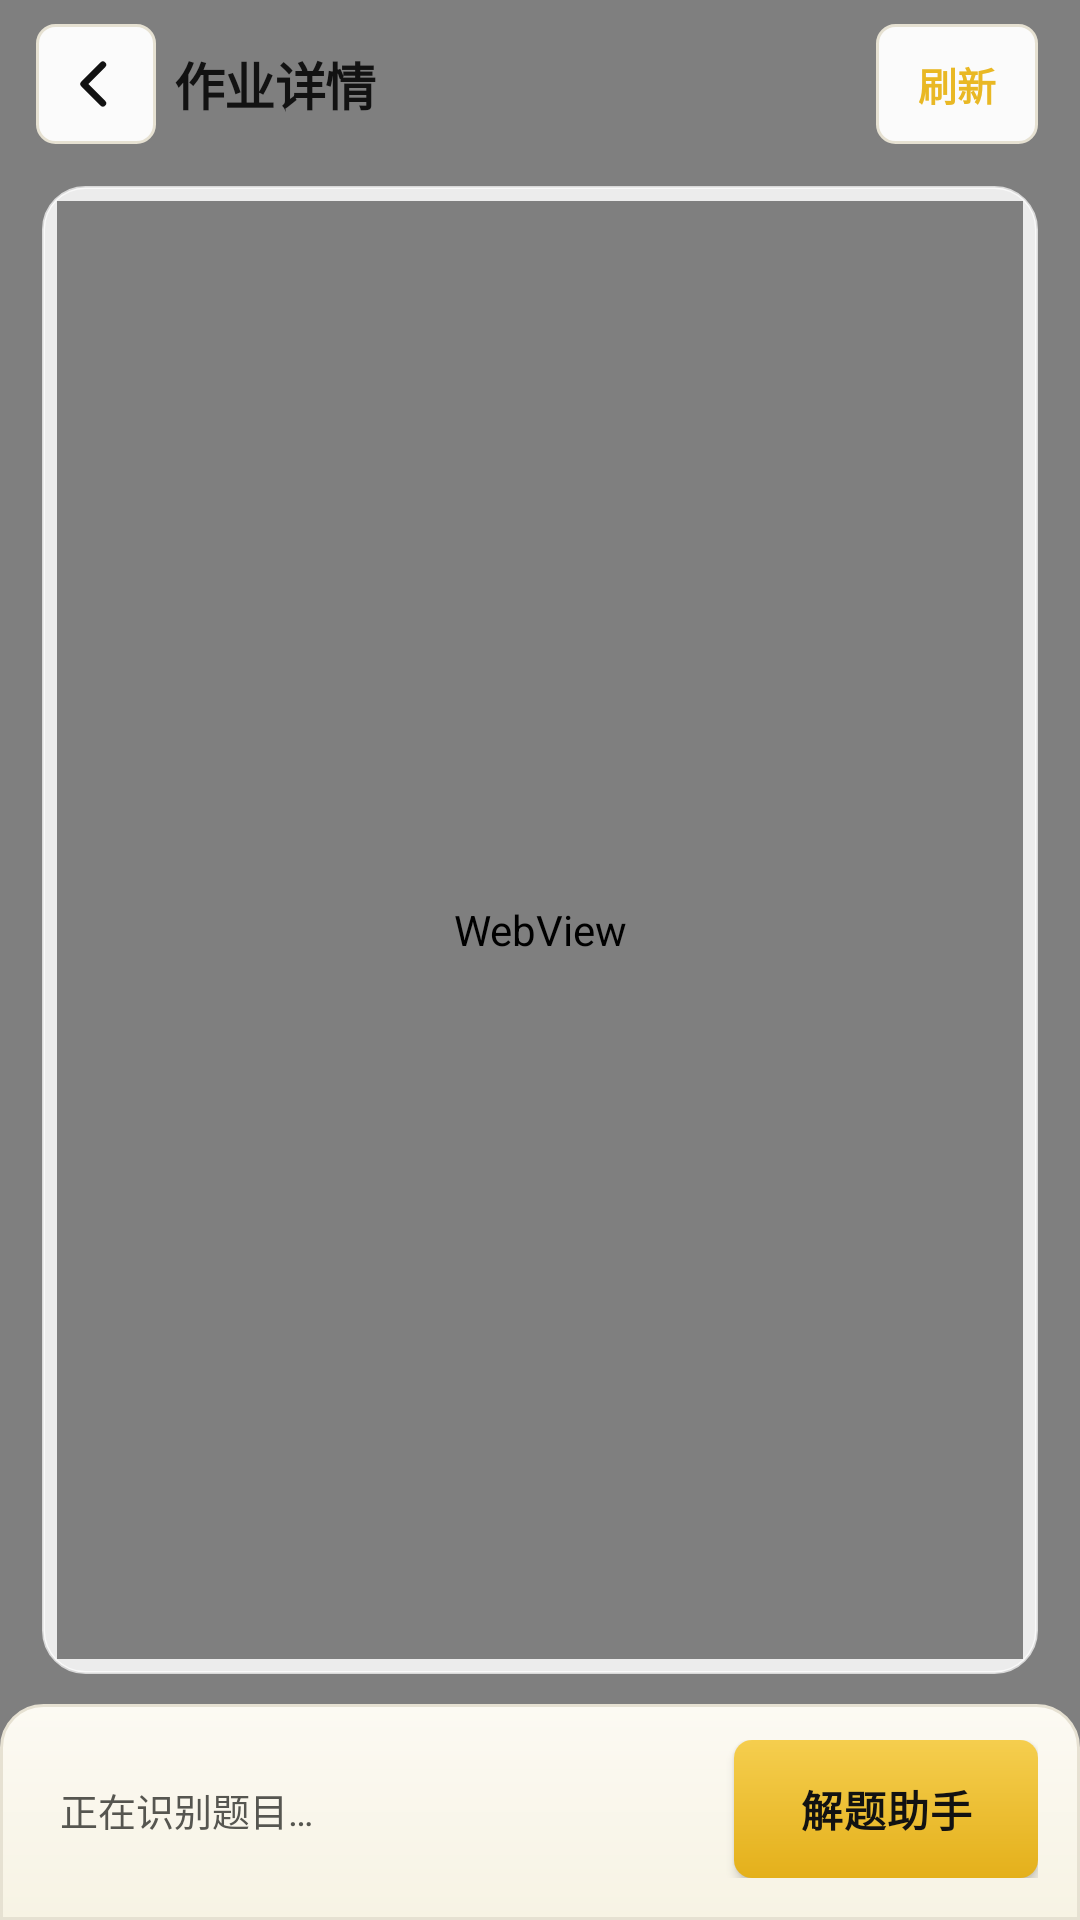

Icons on this 1080x1920 Android screen, each with its box as bbox=[x1, y1, x2, y2]:
返回: bbox=[36, 24, 156, 144]
